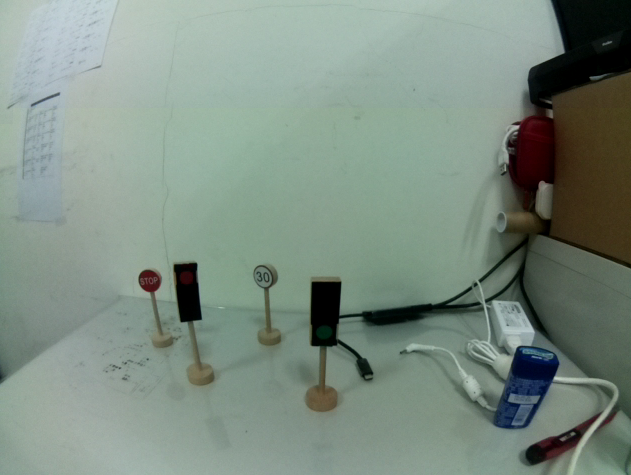Green: (309, 276, 342, 348)
Red: (172, 259, 205, 323)
Speed30: (253, 263, 279, 288)
Stop: (137, 267, 164, 292)
